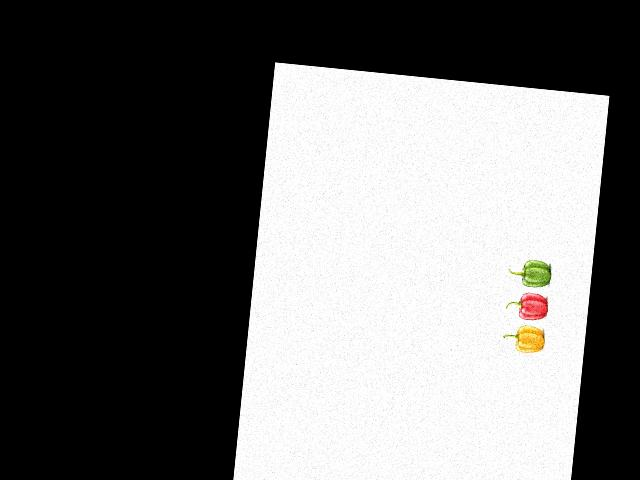bell_pepper: (507, 254, 555, 288)
